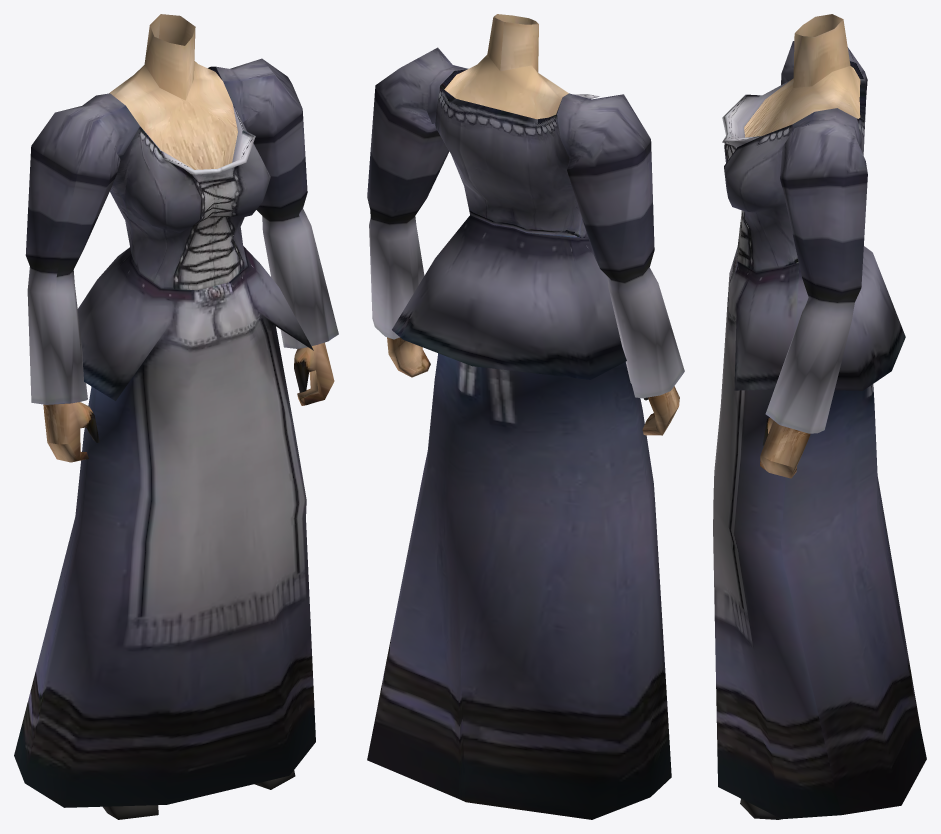
File: ARMOR_BAUBABE_L1.glb
The picture shows the model from 3 angles, left to right: view 1: azimuth 30°, elevation 25°; view 2: azimuth 150°, elevation 25°; view 3: azimuth 270°, elevation 25°; orthographic projection.
Visible parts, largest first — view 1: ARMOR_BAUBABE_L1; view 2: ARMOR_BAUBABE_L1; view 3: ARMOR_BAUBABE_L1.
Part boxes in pixels (x1,y1,x2,y2): ARMOR_BAUBABE_L1: (14, 14, 338, 819); ARMOR_BAUBABE_L1: (367, 14, 684, 819); ARMOR_BAUBABE_L1: (713, 14, 926, 819).
Bounding box in the file's own units: 0.6832 × 1.68 × 0.4292.
2 materials, 2 textured.
